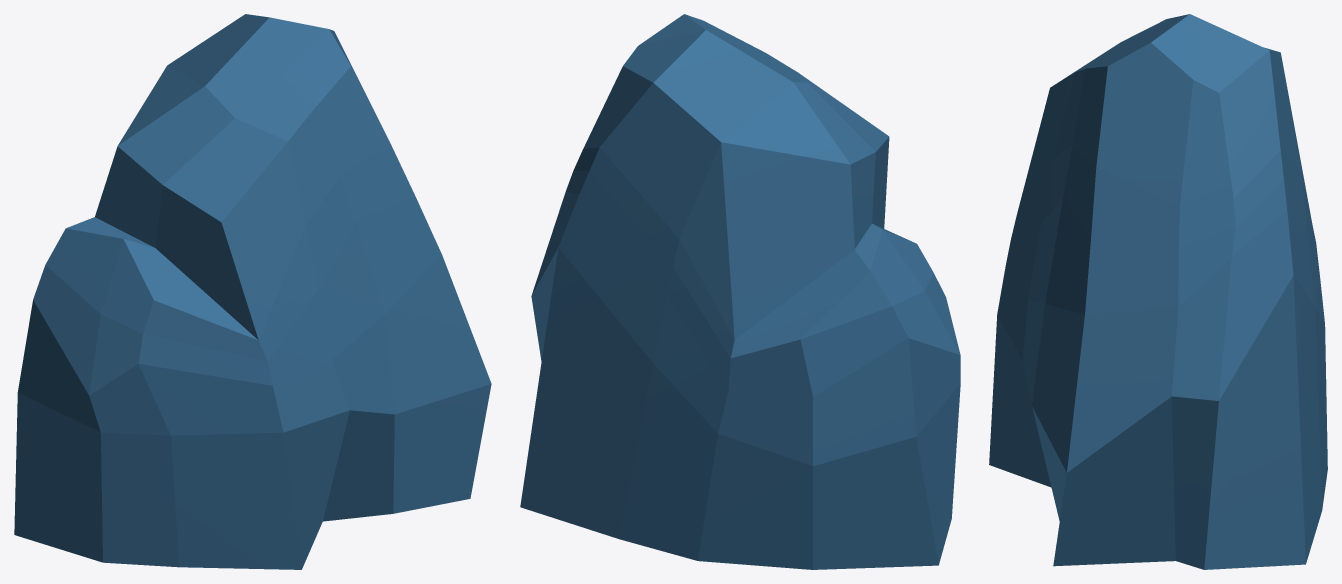
Rendered from SM_IceRock5.fbx.
The picture shows the model from 3 angles, left to right: view 1: azimuth 30°, elevation 25°; view 2: azimuth 150°, elevation 25°; view 3: azimuth 270°, elevation 25°; orthographic projection. The views are drawn at different scales.
Visible parts, largest first — view 1: SM_IceRock5; view 2: SM_IceRock5; view 3: SM_IceRock5.
Part boxes in pixels (box(x1,y1,x2,y2)): SM_IceRock5: box(14, 14, 491, 569); SM_IceRock5: box(520, 14, 960, 569); SM_IceRock5: box(989, 14, 1327, 569).
Size of the model in its own units: 100 by 110 by 69.63.
